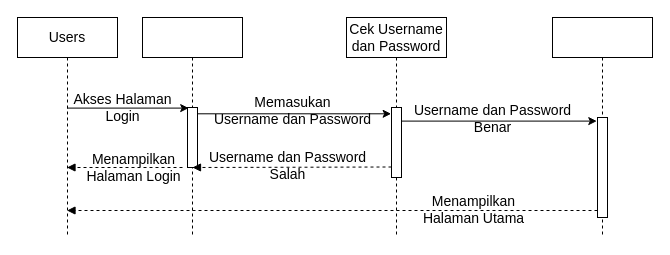
Image size: 670x255. Some labels were removed from this diagram. Here are the shapes that lost their labels. From the top down, the centre of each, then its label:
At (x=192, y=127): "Halaman Login".
At (x=602, y=127): "Halaman Utama".
